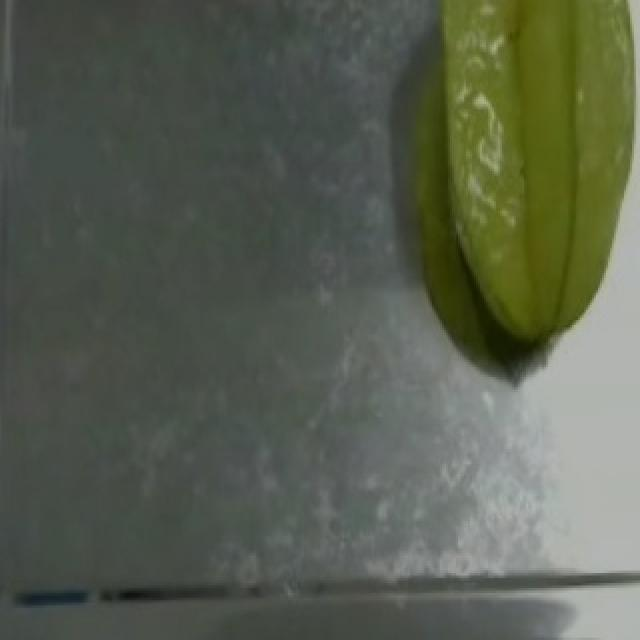fruit: (412, 0, 640, 330)
